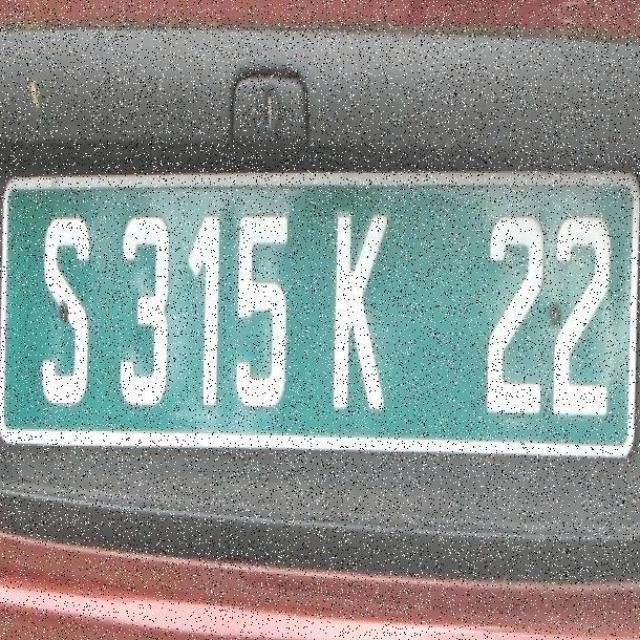license-plate: (4, 174, 640, 459)
